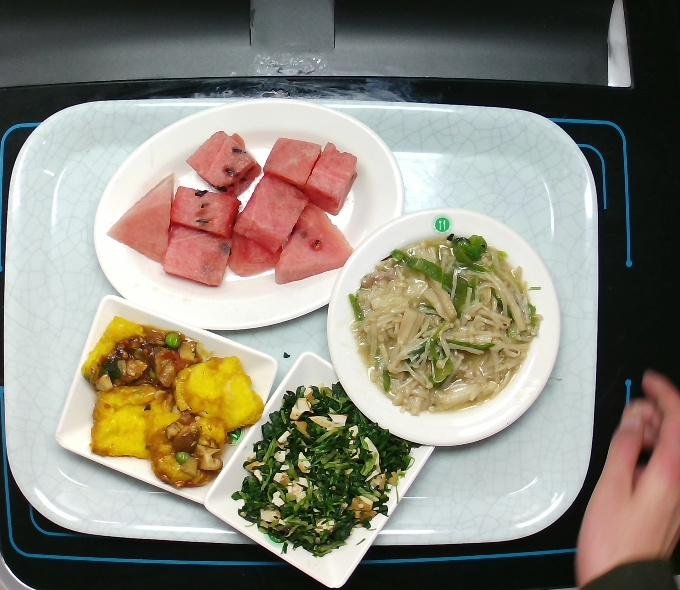wcq-CuiPiDouFu: (75, 309, 271, 493)
wcq-JinZhenGu: (343, 230, 543, 419)
wcq-MaLanTouChaoDouGan: (229, 377, 429, 562)
wcq-XiGua: (102, 126, 360, 289)
